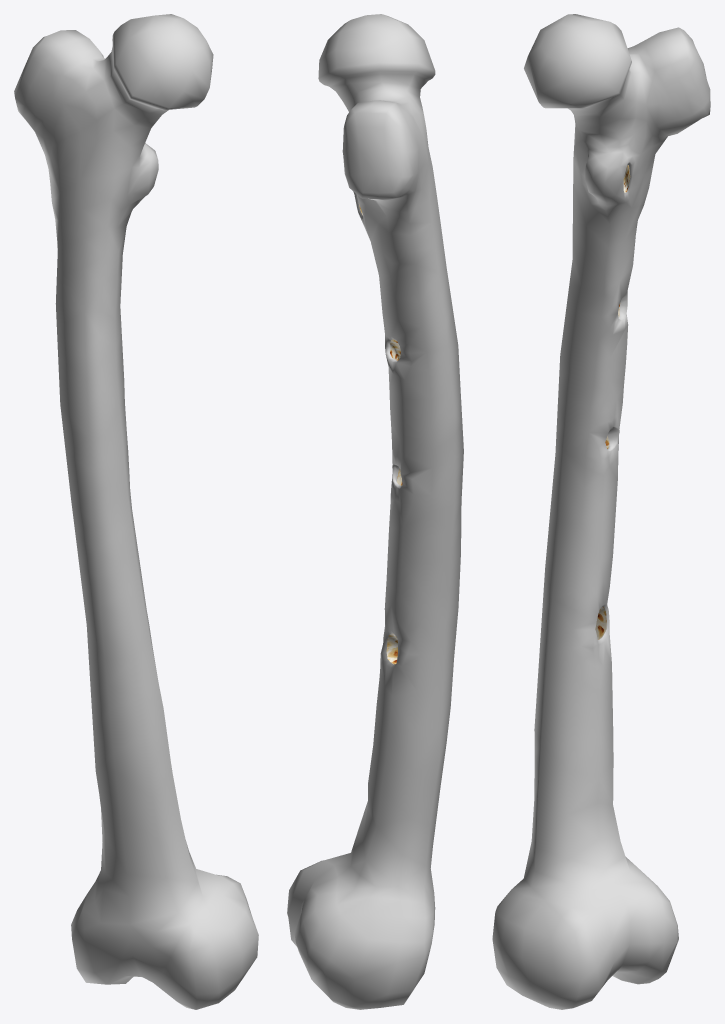
The model's file is Femur_Flute.fbx.
The picture shows the model from 3 angles, left to right: view 1: azimuth 30°, elevation 25°; view 2: azimuth 150°, elevation 25°; view 3: azimuth 270°, elevation 25°; orthographic projection.
Parts seen in each view (by area): view 1: Bone_Flute.001; view 2: Bone_Flute.001, Bone_Flute; view 3: Bone_Flute.001.
Boxes of the visible parts, x1,y1,x2,y2 form: Bone_Flute.001: (14, 14, 258, 1009); Bone_Flute.001: (287, 14, 463, 1009); Bone_Flute: (358, 203, 402, 664); Bone_Flute.001: (492, 14, 710, 1009).
Bounding box in the file's own units: 286 × 1491 × 305.
